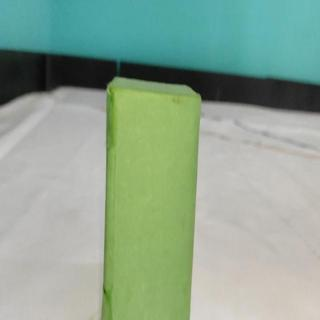greenbox: (105, 73, 202, 320)
